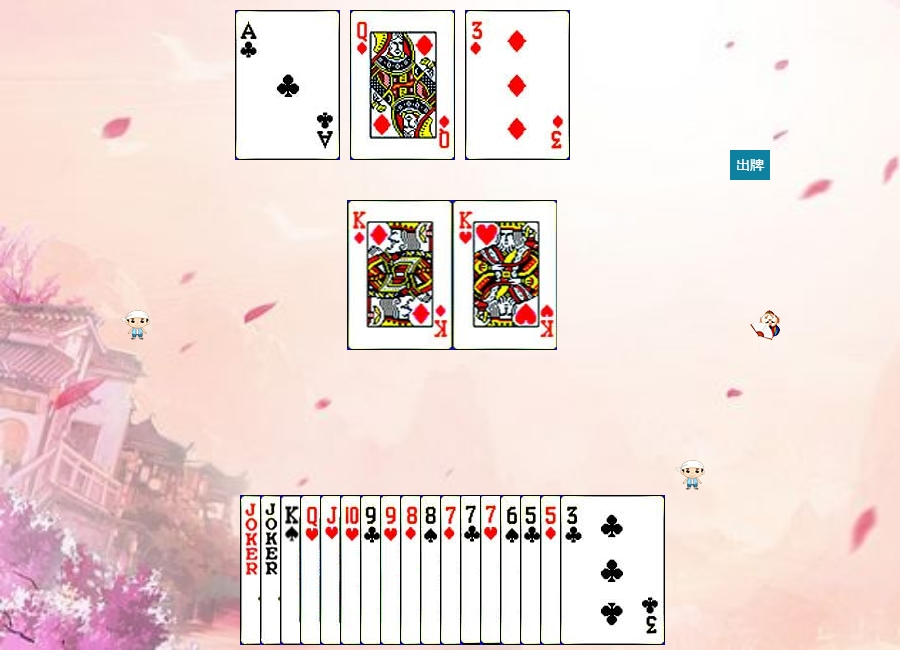10~3: (340, 495, 445, 645)
11~3: (320, 495, 425, 645)
12~1: (350, 10, 455, 160)
12~3: (300, 495, 405, 645)
13~1: (348, 200, 453, 350)
13~3: (453, 200, 558, 350)
13~4: (280, 495, 385, 645)
14~2: (235, 10, 340, 160)
17~3: (260, 495, 365, 645)
18~4: (240, 495, 345, 645)
3~1: (465, 10, 570, 160)
3~2: (560, 495, 665, 645)
5~1: (540, 495, 645, 645)
5~2: (520, 495, 625, 645)
6~4: (500, 495, 605, 645)
7~1: (440, 495, 545, 645)
7~2: (460, 495, 565, 645)
7~3: (480, 495, 585, 645)
8~1: (400, 495, 505, 645)
8~4: (420, 495, 525, 645)
9~2: (360, 495, 465, 645)
9~3: (380, 495, 485, 645)
